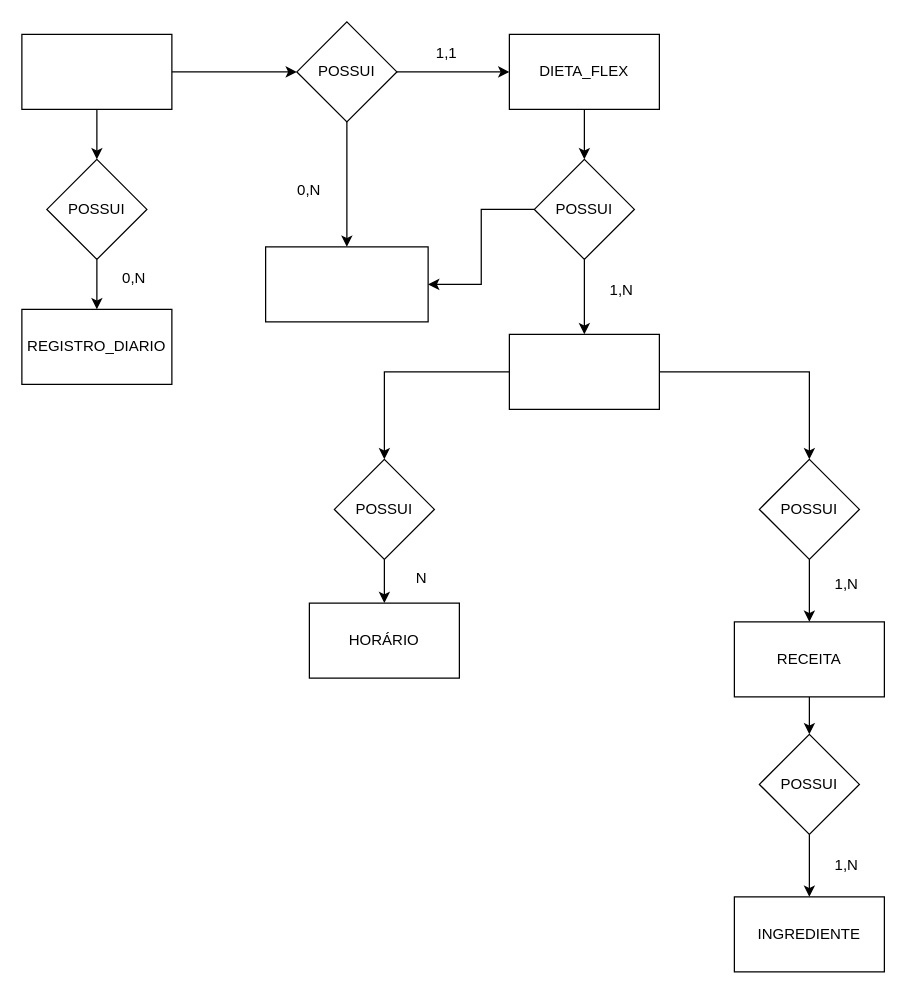
The diagram is 906 pixels wide and 994 high, and some of its shapes have lost their labels. Each missing label, with the centre of its shape:
"ALIMENTO_FAVORITO" goes at point 346,284.
"REFEIÇÃO" goes at point 583,371.
"USUÁRIO" goes at point 96,71.
